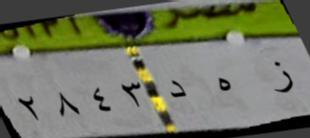2: (14, 91, 41, 127)
3: (120, 77, 144, 115)
4: (88, 81, 113, 117)
8: (55, 89, 80, 121)
daal: (162, 73, 191, 105)
haa: (212, 70, 237, 98)
zay: (264, 59, 295, 102)
